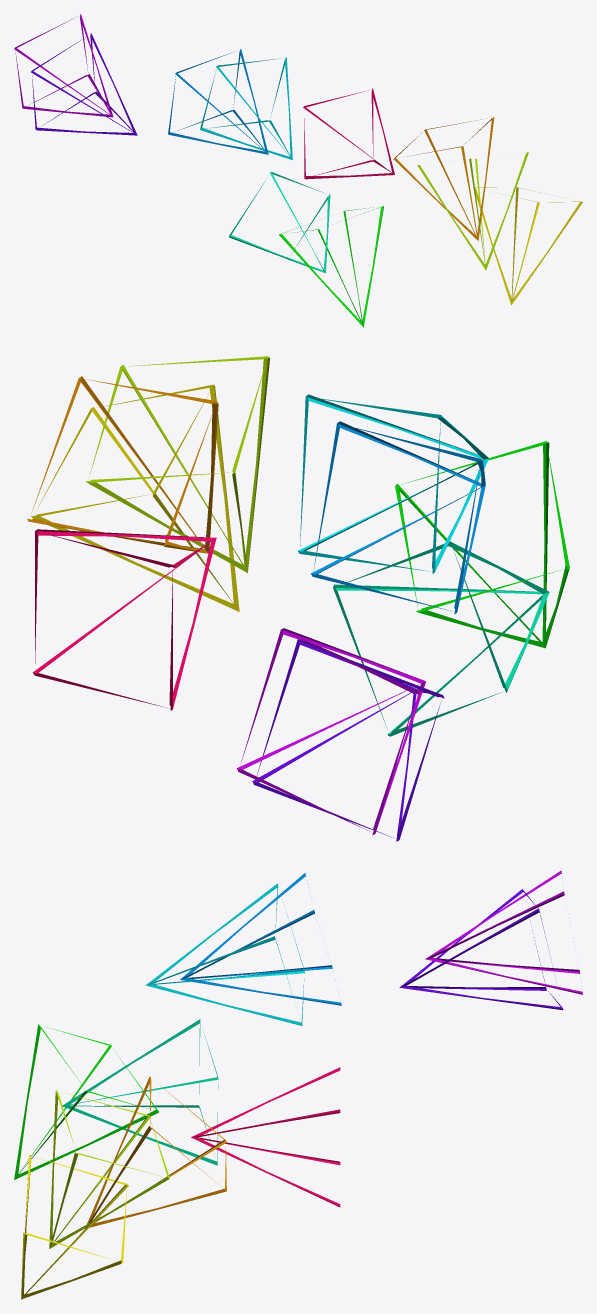
File: pitch_180_wrist_video_90.glb
3 renders of one model, top to bottom at view 1: azimuth 30°, elevation 25°; view 2: azimuth 150°, elevation 25°; view 3: azimuth 270°, elevation 25°, orthographic. The views are drawn at different scales.
Visible parts, largest first — view 1: world; view 2: world; view 3: world.
Boxes of the visible parts, x1,y1,x2,y2 form: world: (14, 14, 582, 327); world: (27, 356, 569, 841); world: (14, 870, 582, 1299).
Size of the model in its own units: 0.8955 by 0.5076 by 0.907.
